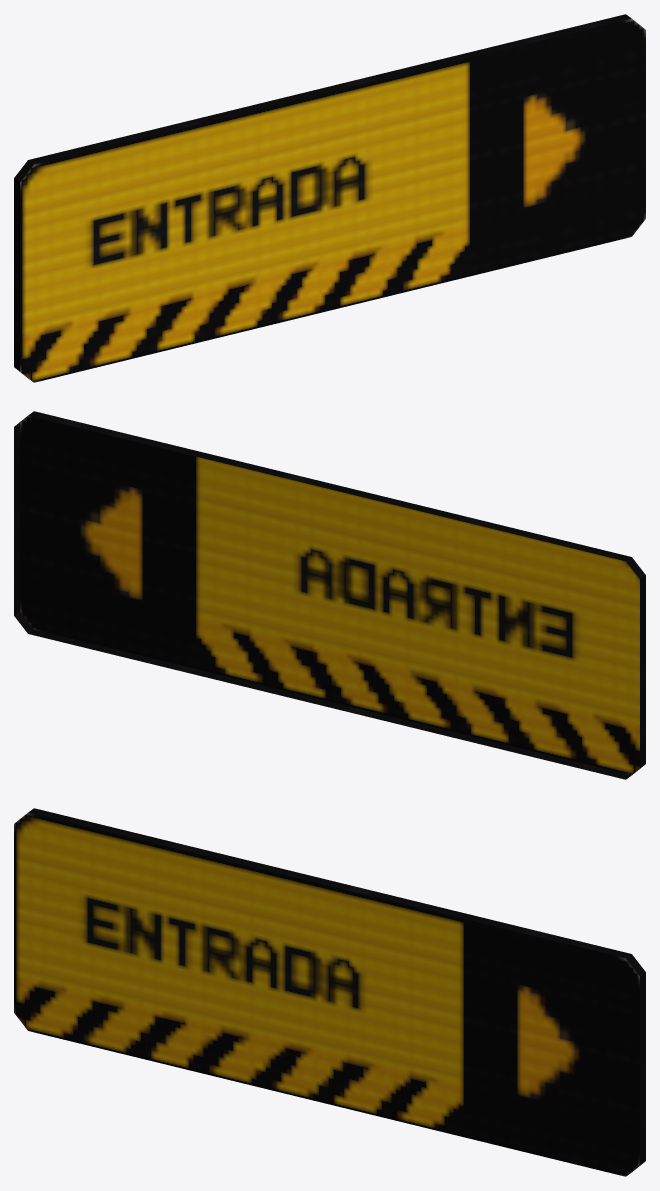
File: SM_PROP_SIGN_WALL_05.fbx
3 renders of one model, top to bottom at view 1: azimuth 30°, elevation 25°; view 2: azimuth 150°, elevation 25°; view 3: azimuth 330°, elevation 25°, orthographic.
Parts seen in each view (by area): view 1: SM_PROP_SIGN_WALL_05; view 2: SM_PROP_SIGN_WALL_05; view 3: SM_PROP_SIGN_WALL_05.
Boxes of the visible parts, x1,y1,x2,y2 form: SM_PROP_SIGN_WALL_05: (14,14,645,382); SM_PROP_SIGN_WALL_05: (14,411,645,779); SM_PROP_SIGN_WALL_05: (14,808,645,1176).
Size of the model in its own units: 1.5 by 0.5 by 0.025.
